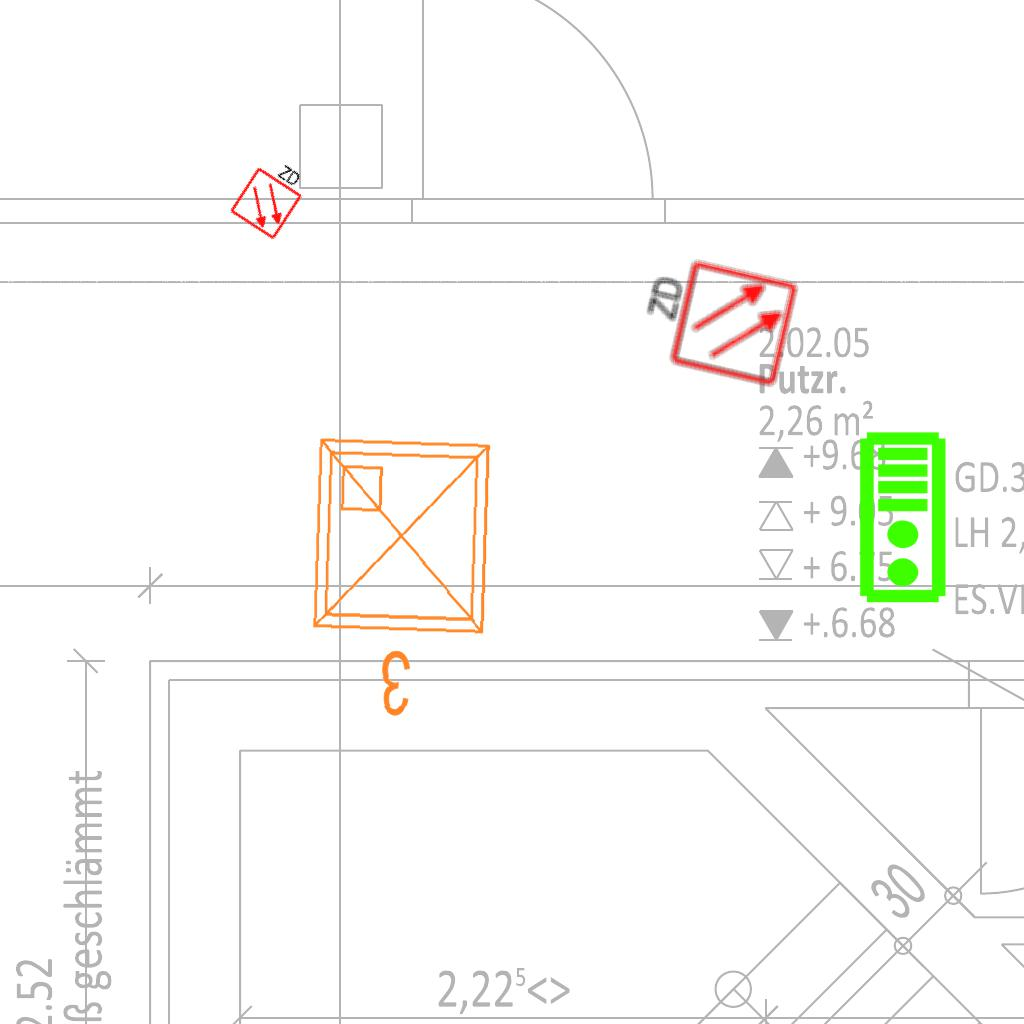Einbaudownlights_LED_Konferenzraeume: (294, 423, 514, 731)
Gegensprechanlage_mit_Video: (857, 430, 952, 606)
ZD_Melder_in_Zwischendecke_mit_Revisionsoeffnung_mind_40_x_40_cm: (629, 248, 801, 393), (226, 148, 315, 242)
